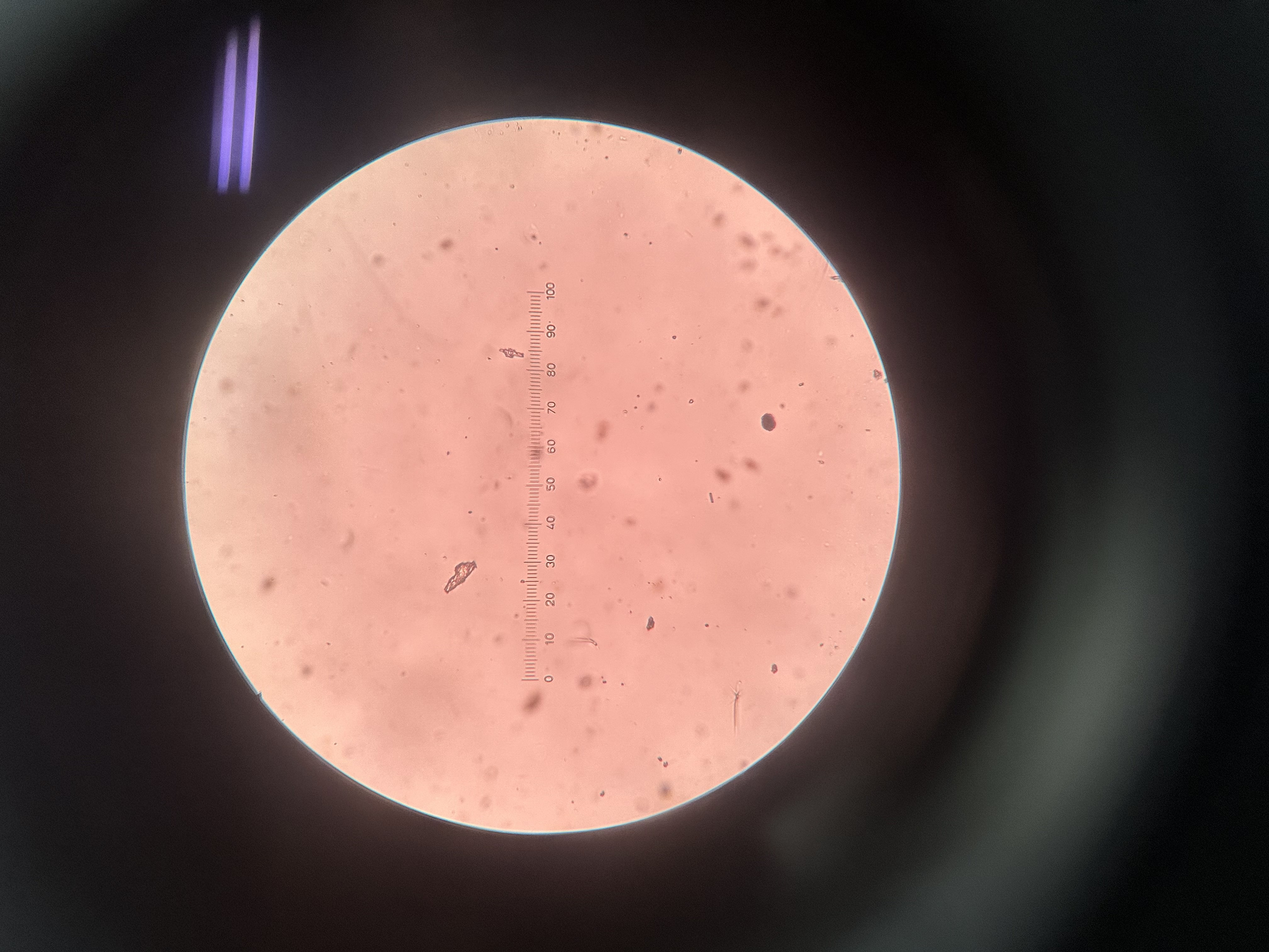microplastic: (726, 676, 752, 733), (444, 557, 481, 592), (494, 347, 527, 362), (760, 411, 780, 433), (644, 613, 656, 637)
